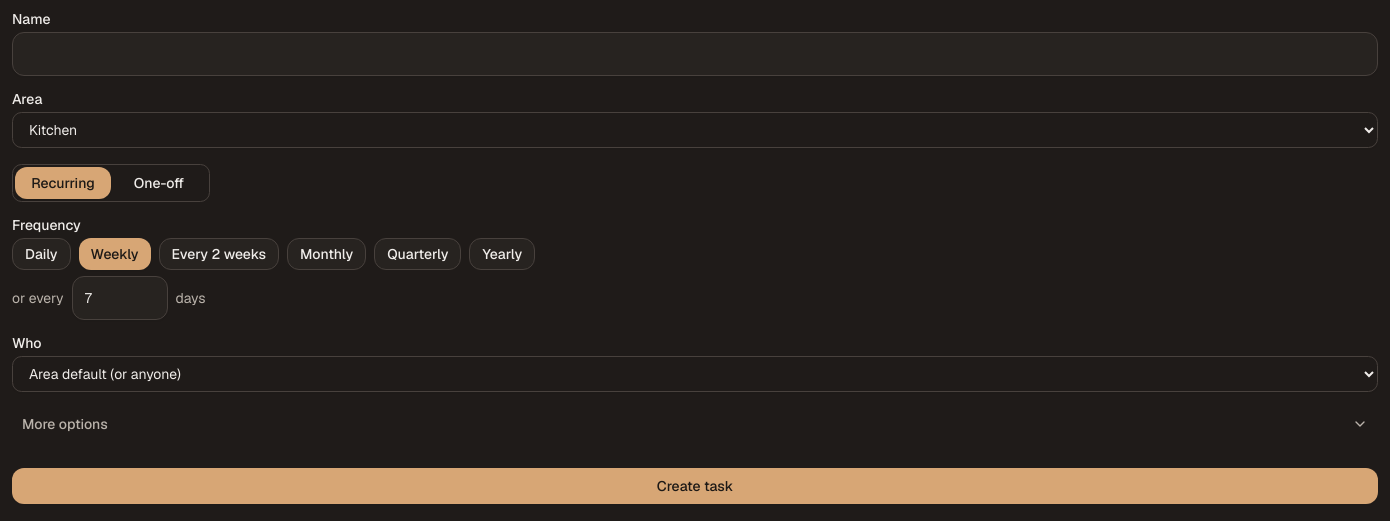
TaskForm OOFT toggle (Phase 15 OOFT-04, D-01..D-03) › selecting "One-off" hides frequency input and shows due_date input
Expected: the field labelled "do by" is not shown
Expected: the number field labelled "Frequency" is shown, [72, 276, 168, 320]
# Flip to One-off.
Click the button "One-off" at (159, 183), box [111, 167, 207, 199]
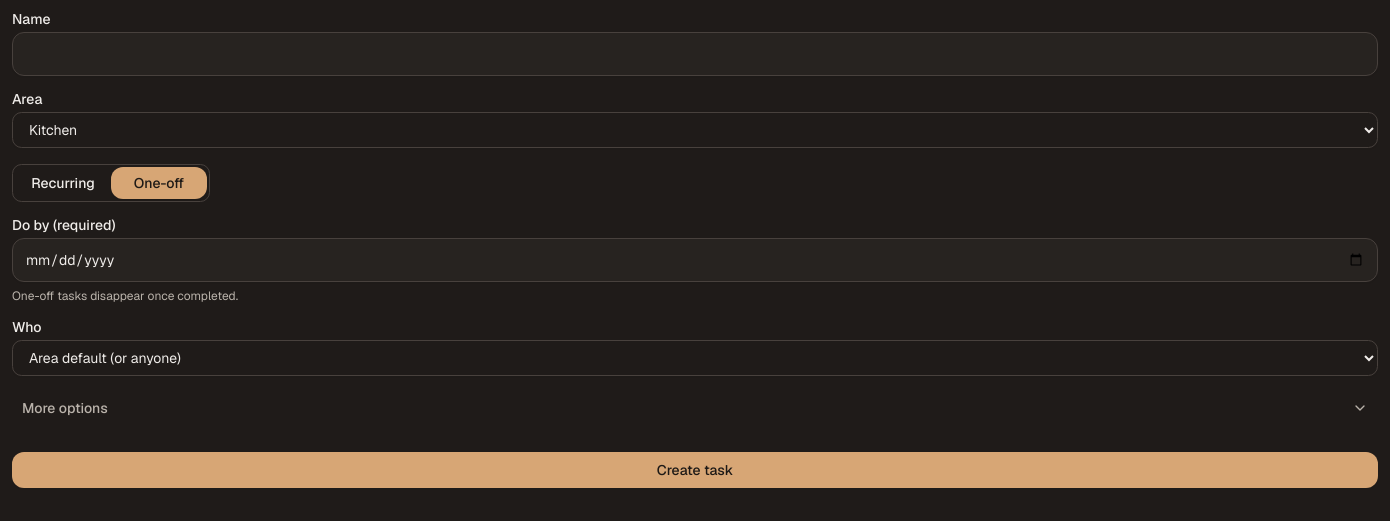
Expected: the date field labelled "Do by (required)" is shown, [12, 238, 1378, 282]
Expected: the label labelled "Frequency" is gone
